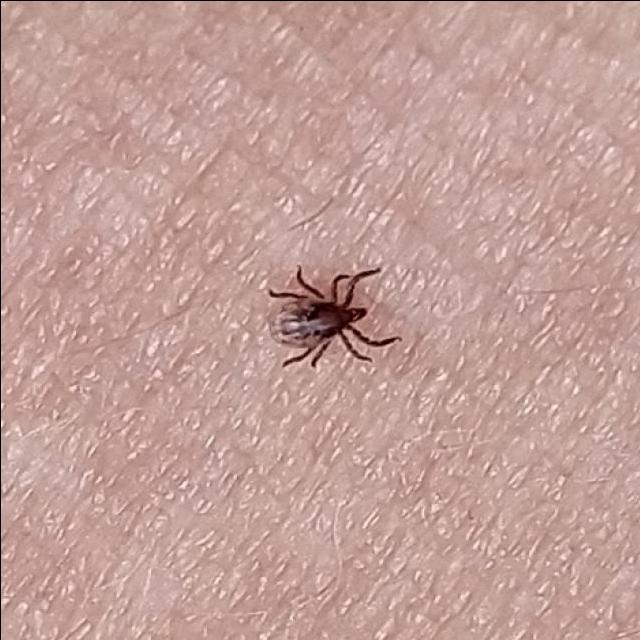Ixodes Ricinus-M: (266, 265, 398, 366)
